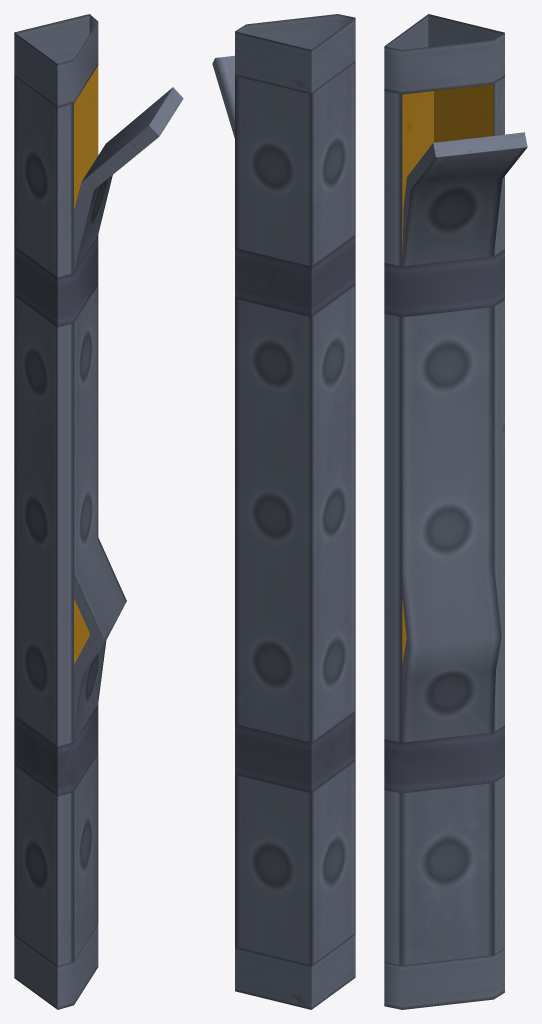
File: obj_spaceship_corner03.fbx
The picture shows the model from 3 angles, left to right: view 1: azimuth 30°, elevation 25°; view 2: azimuth 150°, elevation 25°; view 3: azimuth 330°, elevation 25°; orthographic projection.
Visible parts, largest first — view 1: polySurface244; view 2: polySurface244; view 3: polySurface244.
Part boxes in pixels (left/top/right/bottom): polySurface244: left=14, top=14, right=183, bottom=1009; polySurface244: left=212, top=14, right=355, bottom=1009; polySurface244: left=384, top=14, right=527, bottom=1009.
Bounding box in the file's own units: 1.77 × 12 × 1.58.
